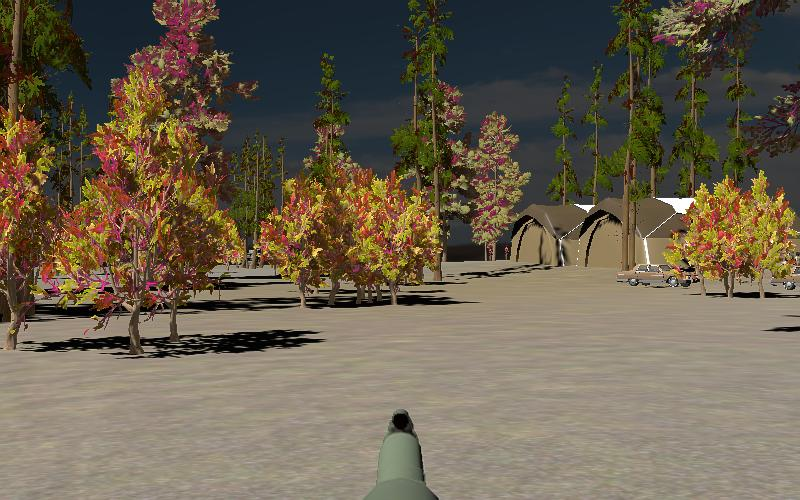car: (614, 261, 693, 290), (768, 257, 800, 293)
